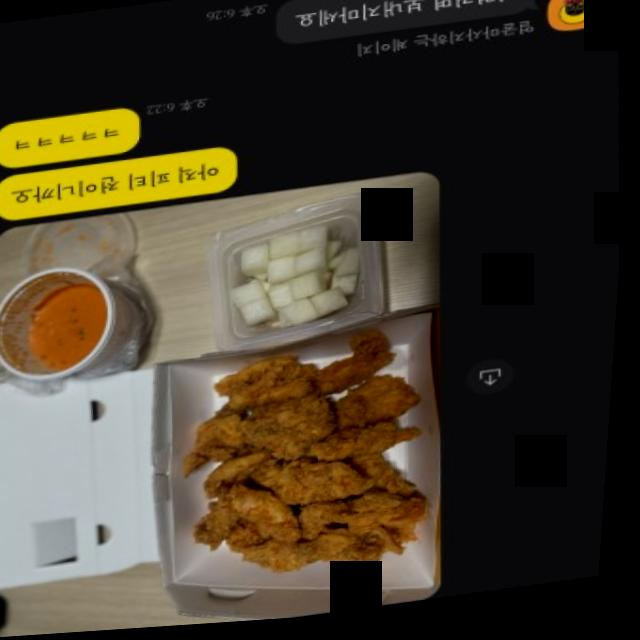Frango: (186, 336, 428, 602)
